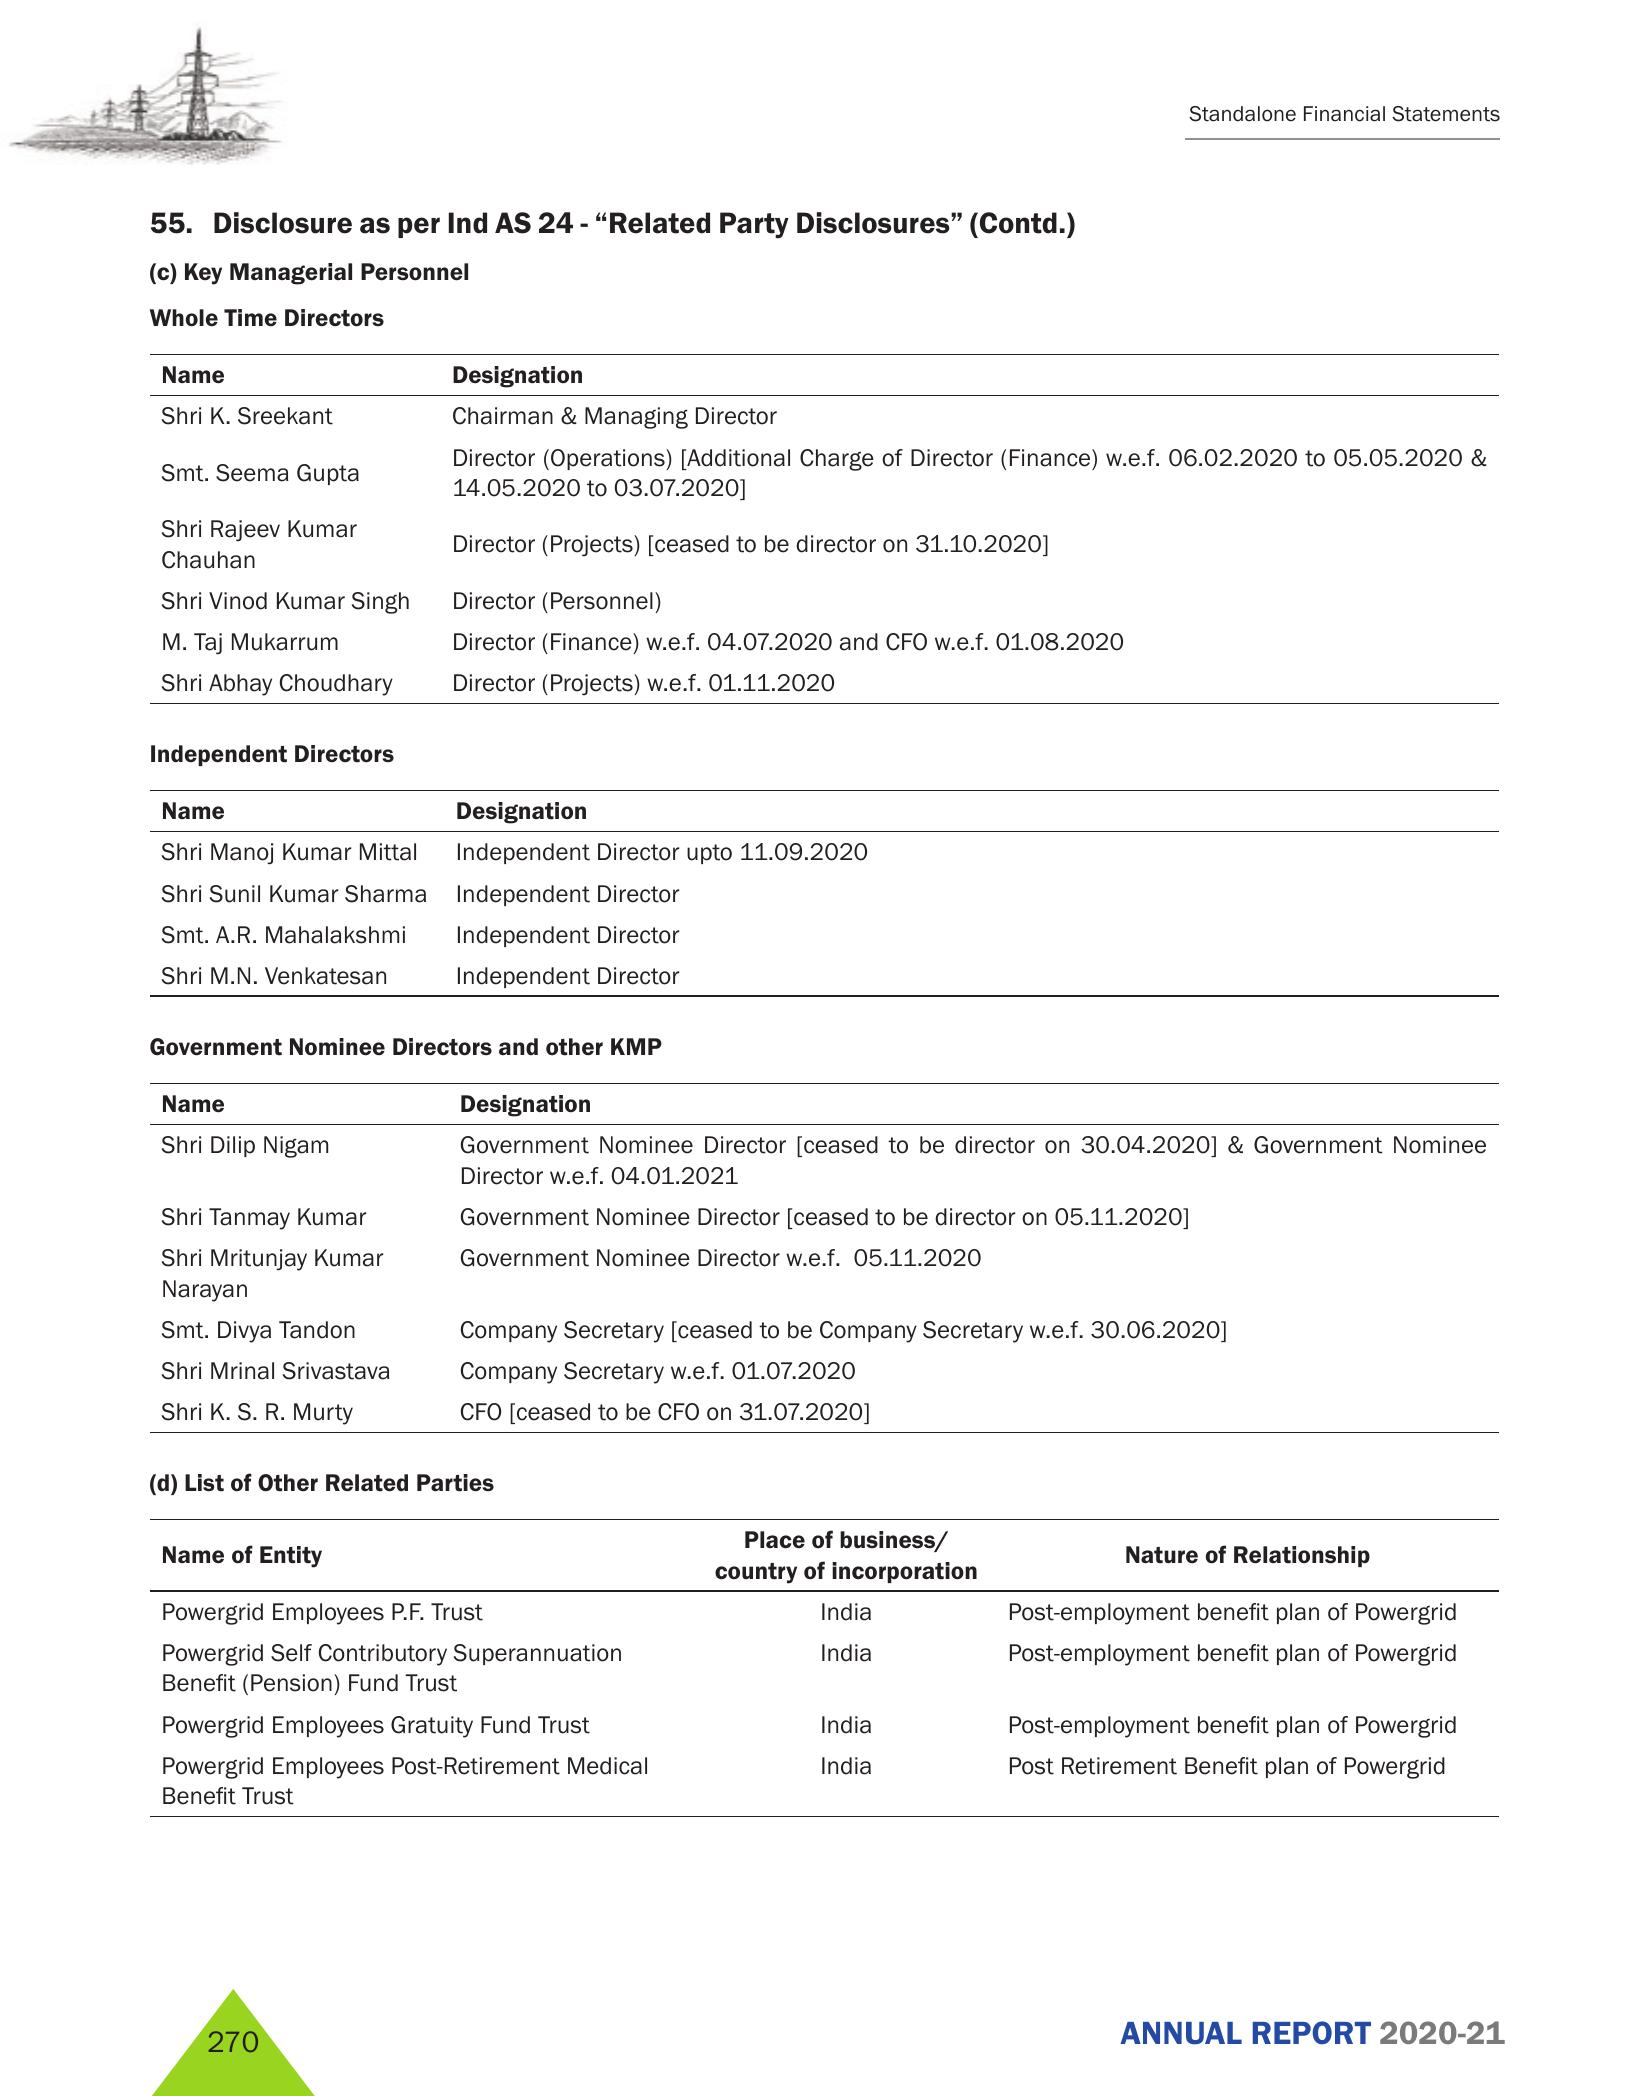Footer: (0, 1968, 1650, 2096)
Header: (0, 0, 1650, 184)
Table: (129, 344, 1524, 776), (117, 1487, 1478, 1776)
